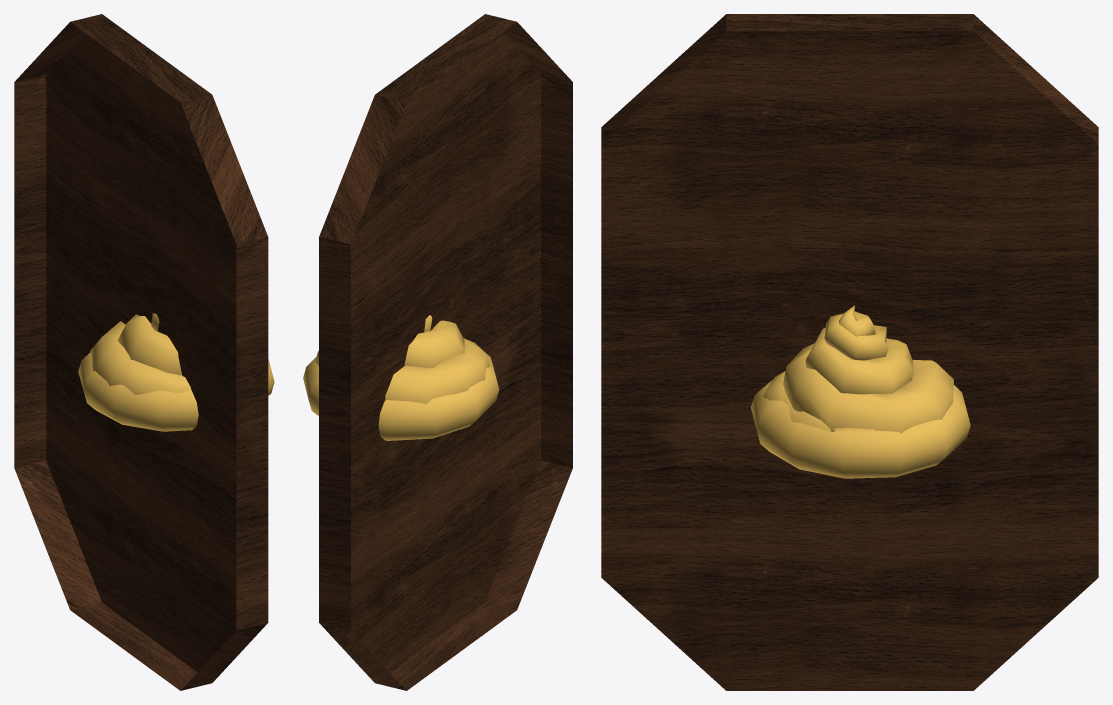
File: ccbtrophy.glb
3 views of the same model, side by side, from view 1: azimuth 30°, elevation 25°; view 2: azimuth 150°, elevation 25°; view 3: azimuth 270°, elevation 25° (orthographic). The views are drawn at different scales.
Visible parts, largest first — view 1: ReceptionWood.001; view 2: ReceptionWood.001; view 3: ReceptionWood.001.
Boxes of the visible parts, box(x1,y1,x2,y2) form: ReceptionWood.001: box(14, 14, 274, 690); ReceptionWood.001: box(303, 14, 572, 690); ReceptionWood.001: box(601, 14, 1098, 690).
Size of the model in its own units: 19.09 by 63.13 by 43.16.
2 materials, 1 textured.
